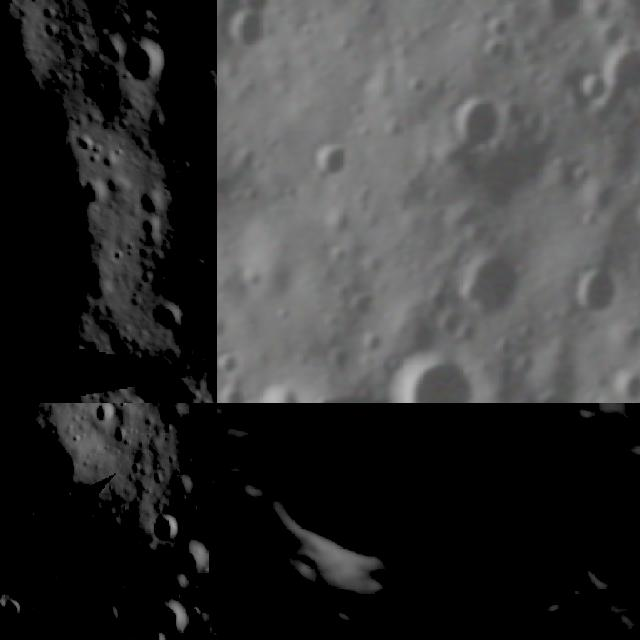crater: (0, 26, 135, 403), (451, 238, 527, 324), (403, 349, 489, 403), (444, 89, 508, 154), (304, 128, 355, 193), (140, 361, 207, 403), (572, 259, 623, 313), (120, 35, 170, 89), (533, 0, 599, 31), (175, 544, 215, 592), (142, 603, 190, 640), (229, 13, 272, 53), (574, 66, 616, 103), (344, 284, 383, 320), (143, 511, 185, 542), (146, 296, 184, 329), (611, 361, 640, 403), (217, 339, 249, 376), (256, 377, 301, 403), (120, 356, 153, 389), (71, 178, 108, 206), (480, 35, 510, 68), (217, 380, 256, 403), (578, 619, 618, 640), (491, 6, 518, 35), (1, 596, 33, 620), (167, 471, 191, 499), (93, 403, 117, 426), (235, 0, 277, 13), (110, 392, 153, 403)
